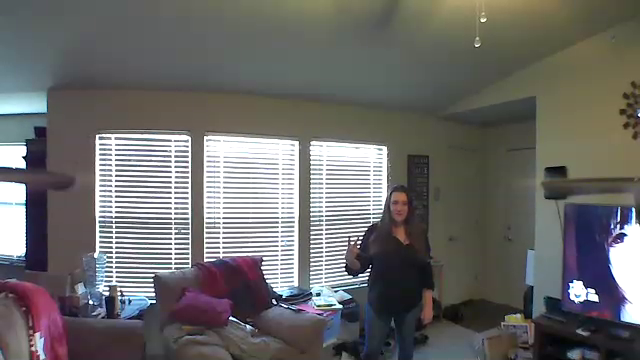peace: (337, 231, 368, 264)
